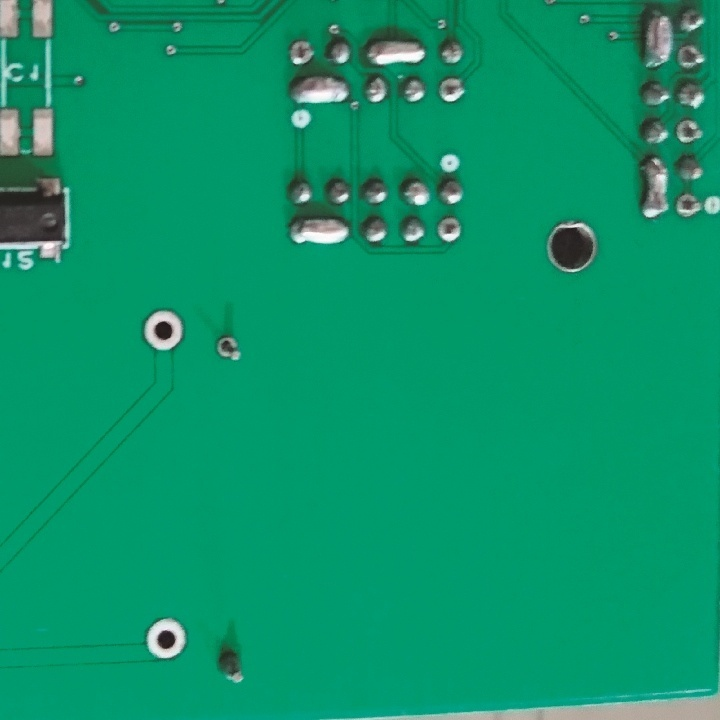F: (141, 304, 186, 354), (144, 614, 187, 665), (436, 213, 467, 247), (215, 332, 246, 365), (674, 116, 706, 146), (675, 44, 709, 72), (287, 37, 315, 67), (676, 191, 704, 220), (437, 78, 465, 105)
P: (639, 5, 674, 76), (287, 214, 352, 248), (639, 151, 669, 223), (288, 72, 350, 105), (365, 38, 427, 69)
